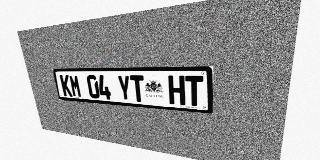0: (86, 75, 100, 99)
4: (97, 75, 111, 100)
H: (168, 75, 185, 105)
K: (59, 75, 73, 97)
M: (69, 75, 82, 97)
T: (185, 76, 203, 107), (130, 75, 146, 102)
Y: (117, 75, 132, 101)
